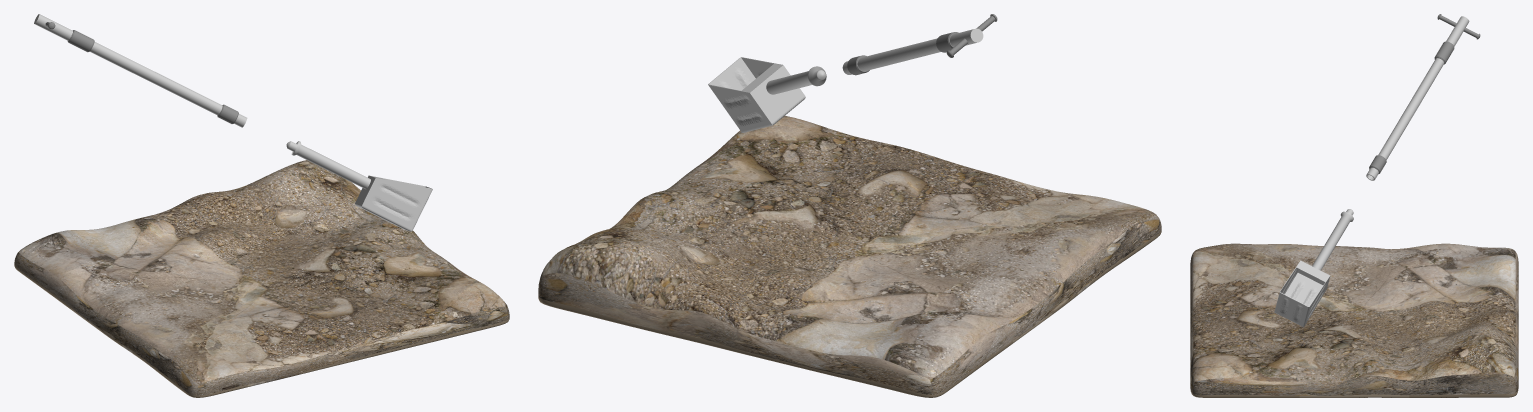
File: extentionHandleAnimated.gltf
3 renders of one model, left to right at view 1: azimuth 30°, elevation 25°; view 2: azimuth 150°, elevation 25°; view 3: azimuth 270°, elevation 25°, orthographic. The views are drawn at different scales.
Visible parts, largest first — view 1: Plane, Cube.001, Cylinder, Cylinder.002; view 2: Plane, Cube.001, Cylinder, Cylinder.002; view 3: Plane, Cube.001, Cylinder, Cylinder.002.
Part boxes in pixels (x1,y1,x2,y2): Plane: (14, 160, 509, 397); Cube.001: (355, 175, 432, 231); Cylinder: (34, 14, 247, 127); Cylinder.002: (286, 141, 370, 189); Plane: (538, 116, 1161, 397); Cube.001: (708, 57, 805, 132); Cylinder: (842, 28, 983, 74); Cylinder.002: (766, 66, 826, 94); Plane: (1190, 243, 1518, 397); Cube.001: (1274, 260, 1330, 327); Cylinder: (1366, 16, 1469, 180); Cylinder.002: (1312, 209, 1353, 270).
Size of the model in its own units: 33.28 by 26.86 by 32.67.
